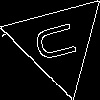U: (33, 17, 87, 64)
